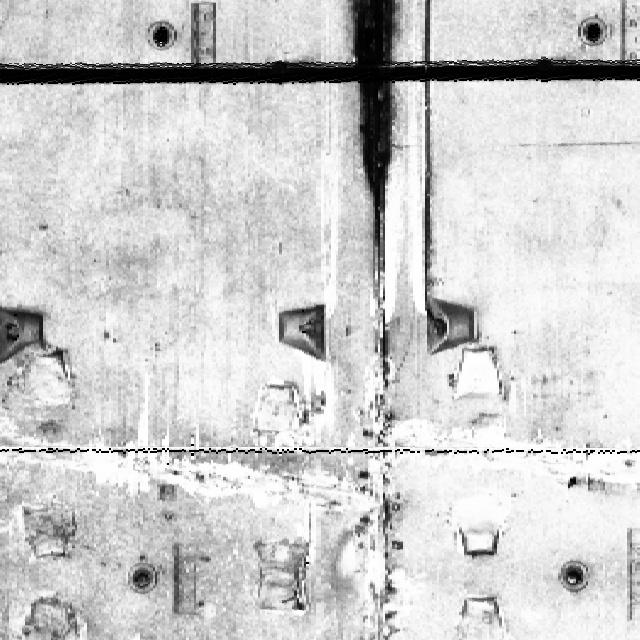leakage: (334, 0, 410, 283)
